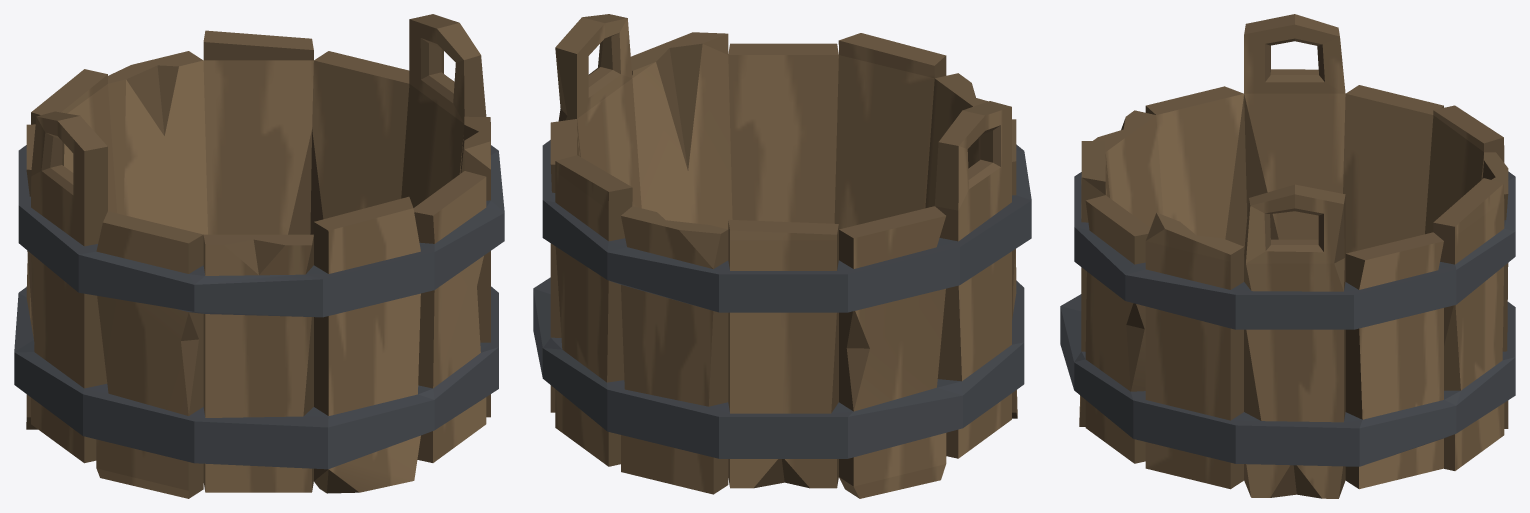
The model's file is SM_Prop_Bucket_03.fbx.
The picture shows the model from 3 angles, left to right: view 1: azimuth 30°, elevation 25°; view 2: azimuth 150°, elevation 25°; view 3: azimuth 270°, elevation 25°; orthographic projection. The views are drawn at different scales.
Visible parts, largest first — view 1: SM_Prop_Bucket_03; view 2: SM_Prop_Bucket_03; view 3: SM_Prop_Bucket_03.
Part boxes in pixels (x1,y1,x2,y2): SM_Prop_Bucket_03: (14,14,504,498); SM_Prop_Bucket_03: (533,14,1031,498); SM_Prop_Bucket_03: (1060,14,1515,498).
Size of the model in its own units: 85.27 by 64.25 by 85.38.
